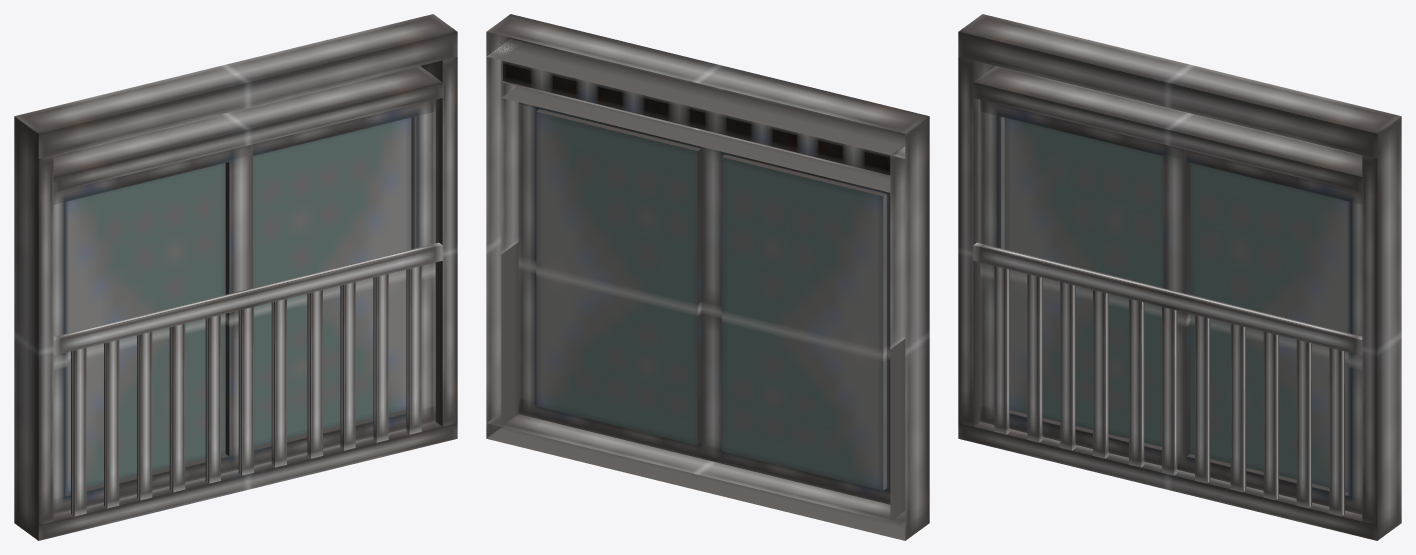
Rendered from Poly_SF_Outside_B_Window_06.obj.
The picture shows the model from 3 angles, left to right: view 1: azimuth 30°, elevation 25°; view 2: azimuth 150°, elevation 25°; view 3: azimuth 330°, elevation 25°; orthographic projection.
Parts seen in each view (by area): view 1: Cube.001, Cube.002, Cube.003; view 2: Cube.001, Cube.002; view 3: Cube.001, Cube.002, Cube.003.
Boxes of the visible parts, box(x1,y1,x2,y2) form: Cube.001: box(53, 99, 435, 514); Cube.002: box(14, 14, 457, 540); Cube.003: box(71, 266, 421, 516); Cube.001: box(518, 102, 890, 504); Cube.002: box(486, 14, 929, 540); Cube.001: box(980, 99, 1362, 514); Cube.002: box(958, 14, 1401, 540); Cube.003: box(994, 266, 1344, 516).
Size of the model in its own units: 1.4 by 1.3 by 0.14.
1 material, 1 textured.
